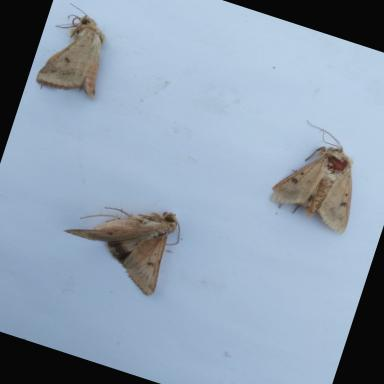abw: (50, 179, 191, 302), (260, 112, 380, 240), (30, 0, 131, 111)
